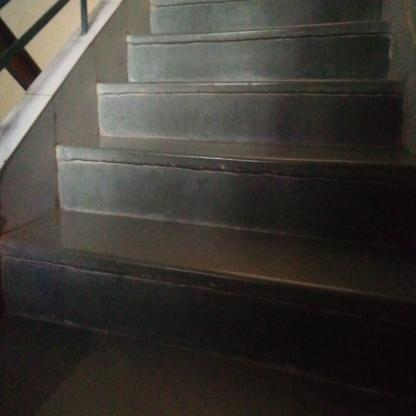stairs: (125, 9, 379, 394)
